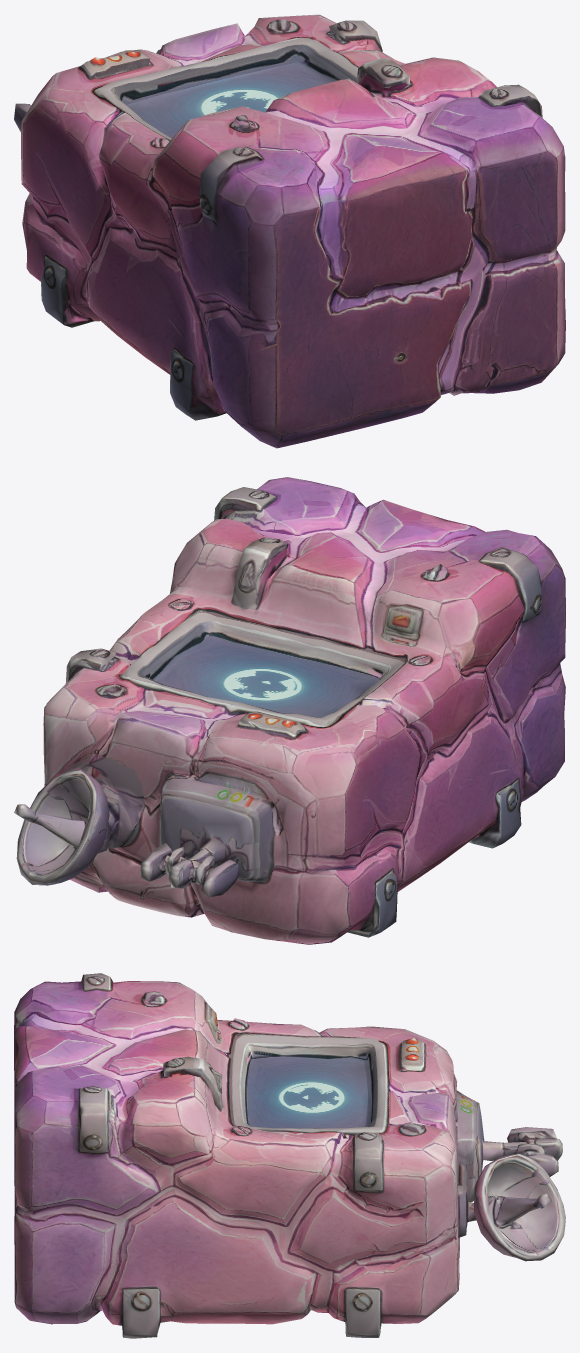
File: Pink Crystal Console.fbx
The picture shows the model from 3 angles, top to bottom: view 1: azimuth 30°, elevation 25°; view 2: azimuth 150°, elevation 25°; view 3: azimuth 270°, elevation 25°; orthographic projection. The views are drawn at different scales.
Parts seen in each view (by area): view 1: texture_mapping; view 2: texture_mapping; view 3: texture_mapping.
Boxes of the visible parts, x1=… form: texture_mapping: x1=14, y1=14, x2=565, y2=448; texture_mapping: x1=14, y1=477, x2=565, y2=944; texture_mapping: x1=14, y1=973, x2=565, y2=1338.
Size of the model in its own units: 2.44 by 1.95 by 4.02.
Materials: 1 (1 with a texture image).
